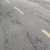others: (4, 1, 49, 39)
